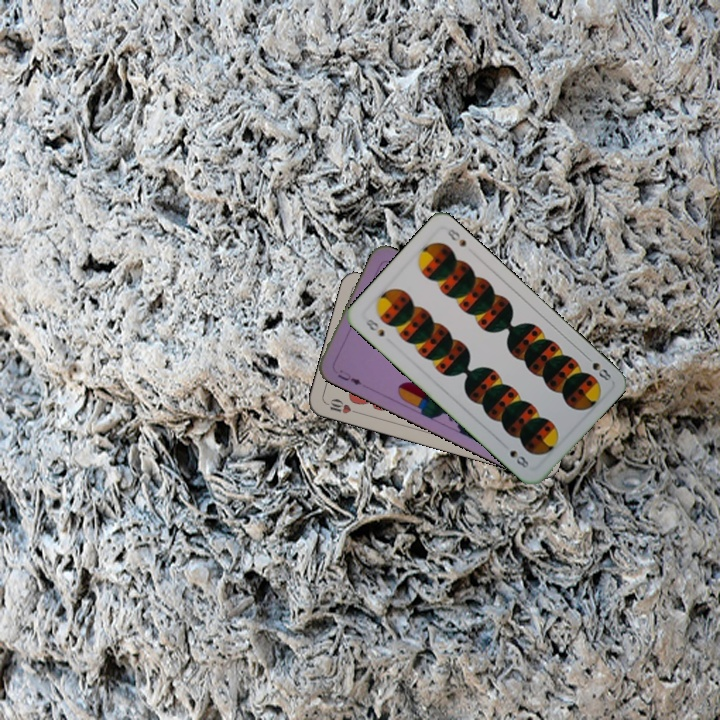EU: (333, 366, 364, 388)
H10: (322, 395, 362, 416)
S8: (581, 351, 614, 383), (361, 314, 387, 339)
